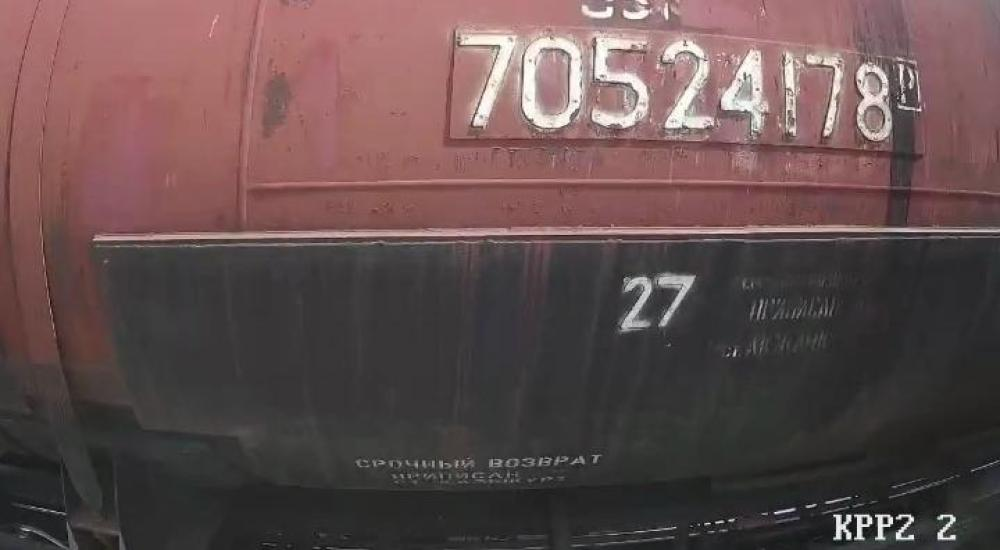Wagon-number: (452, 30, 897, 150)
